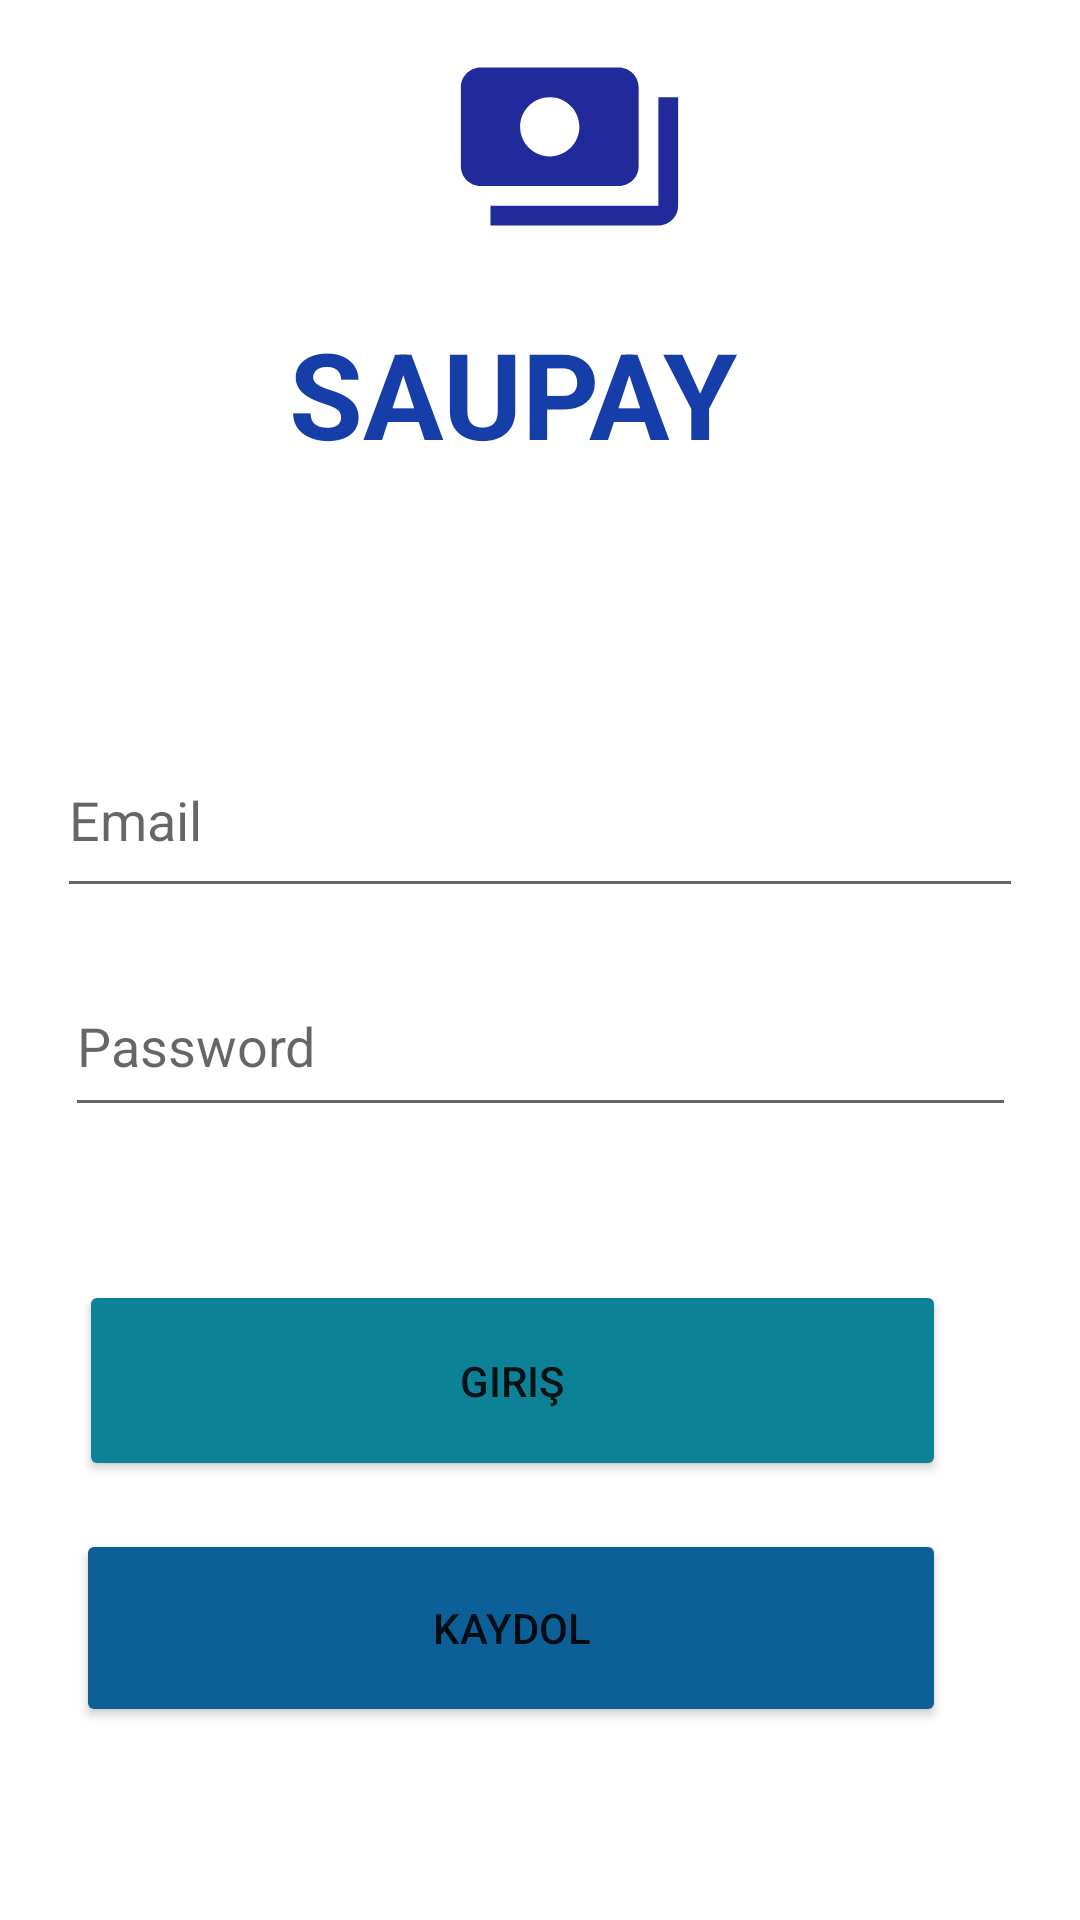

Point at icon controls on the screen. Image size 1080px×1920px, points as [x,y].
payments: [569,146]
